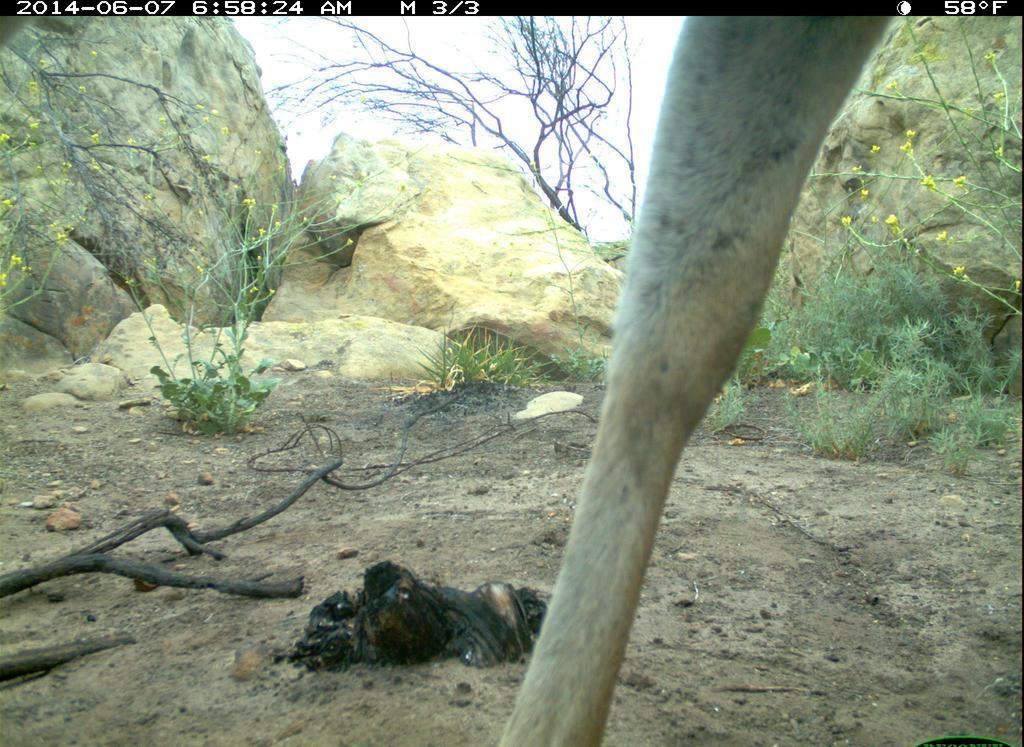deer: (502, 12, 977, 747)
